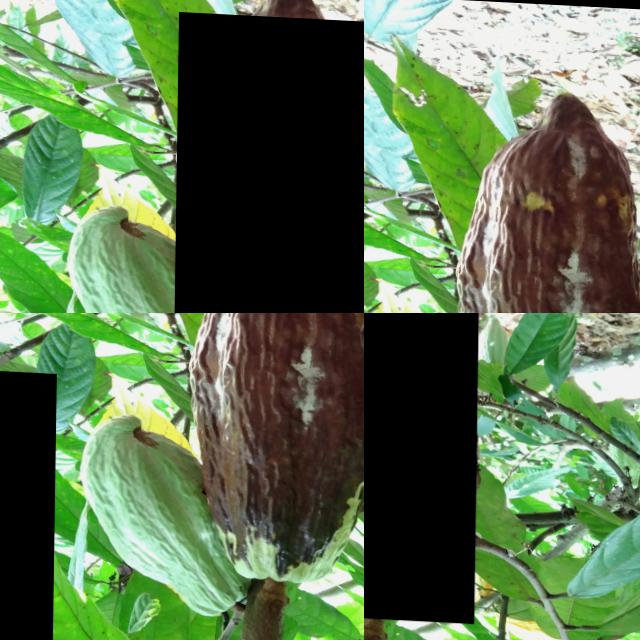Monilia: (175, 9, 364, 313), (364, 313, 479, 618)
Sana: (211, 313, 364, 575), (0, 367, 57, 640), (364, 129, 402, 216), (442, 93, 471, 156), (394, 159, 416, 179), (427, 118, 440, 149), (410, 158, 425, 183)
